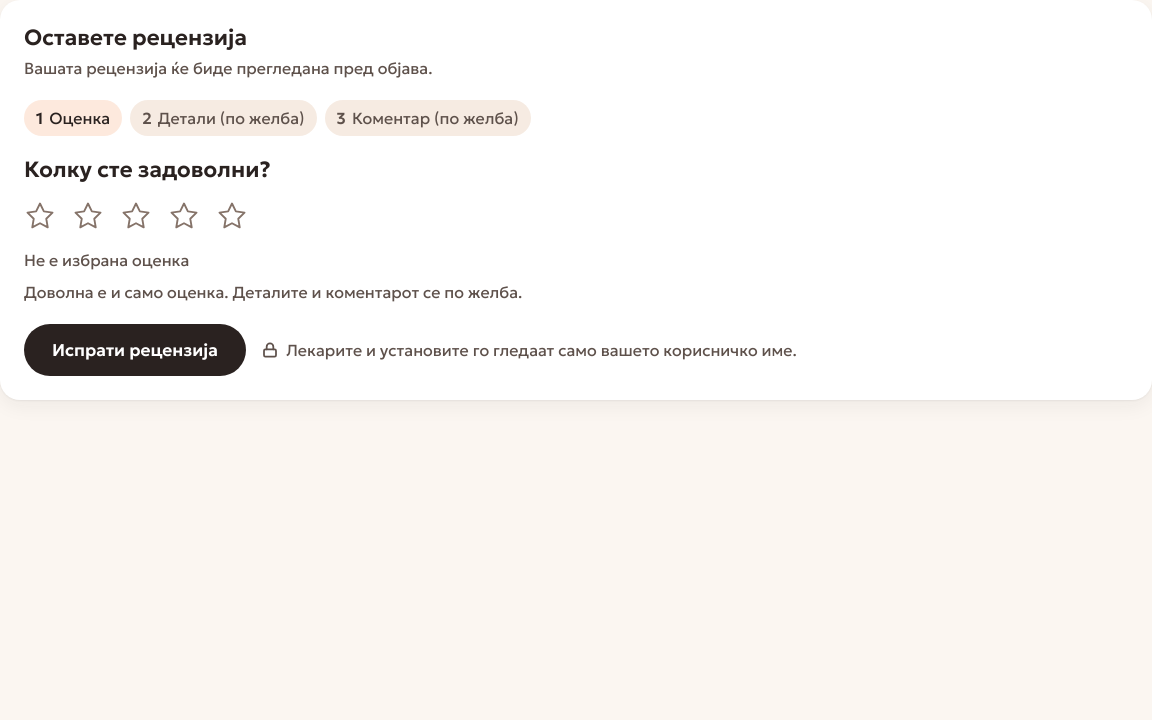
Test: ReviewForm › shows a 422 failure as an alert
Click the radio button named "3 ѕвезди од 5": click(136, 216) [112, 192, 160, 240]
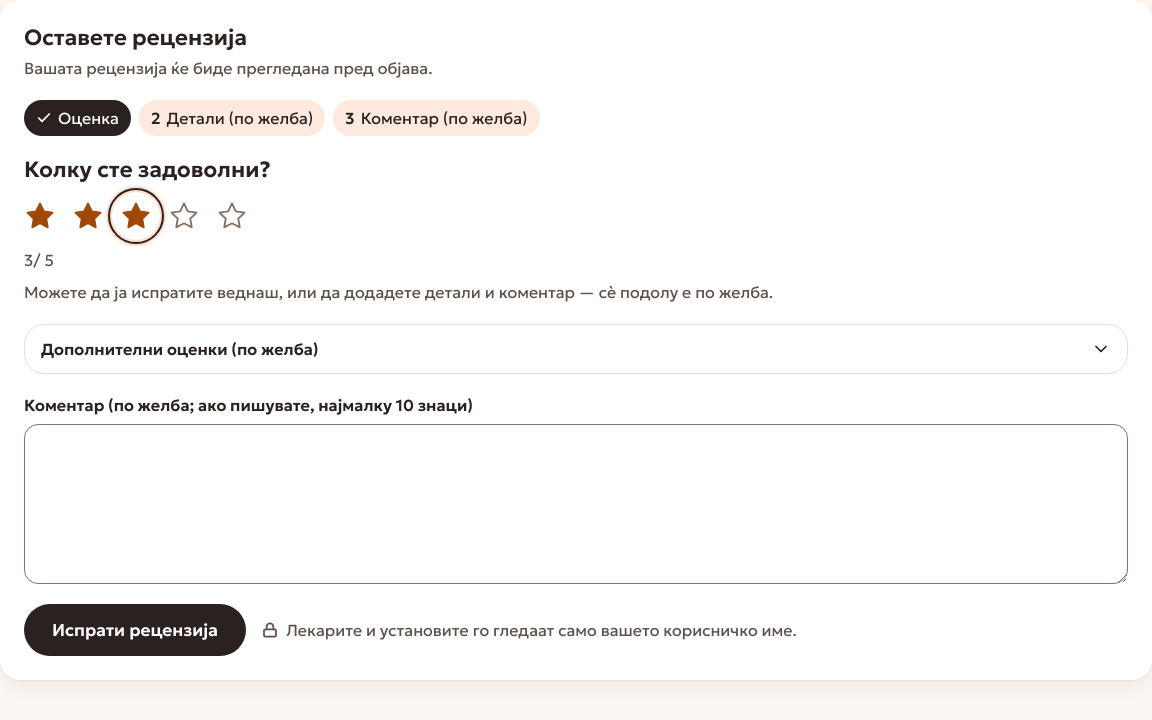
Click the button "Испрати рецензија": click(135, 630) [24, 604, 246, 656]
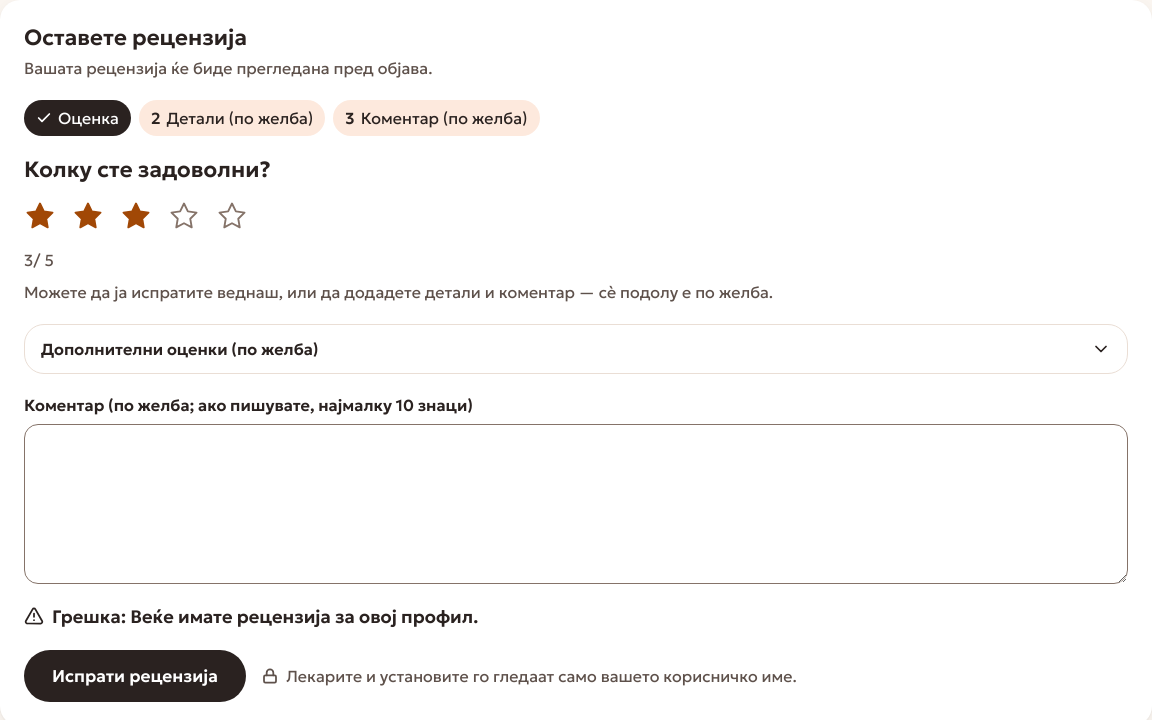
Now the message shows "Веќе имате рецензија за овој профил.", box [130, 605, 478, 628]
